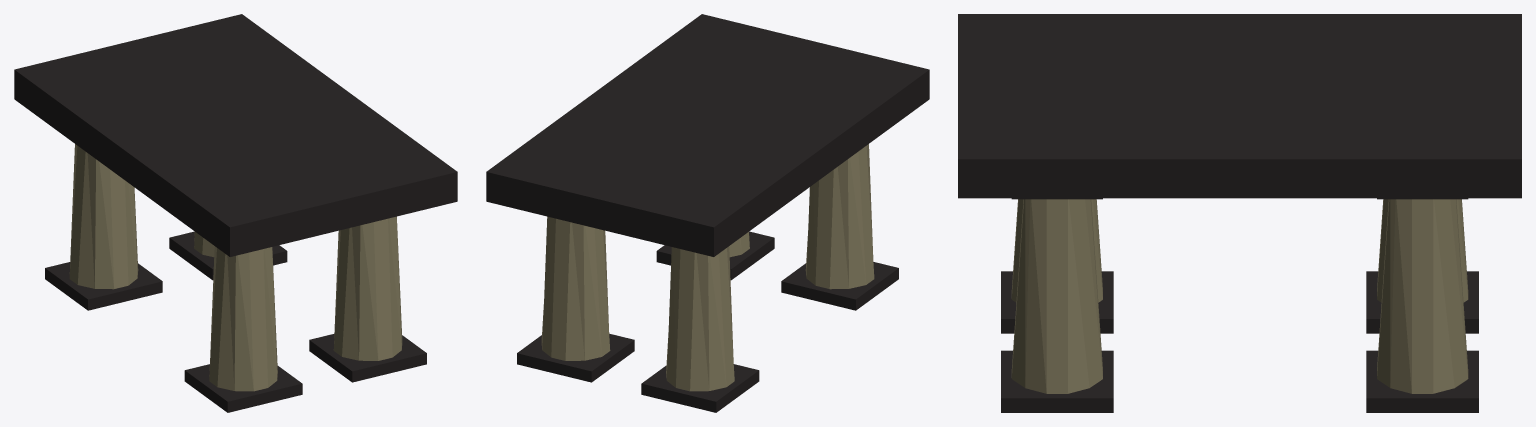
Rendered from obj_table_17_0.obj.
3 views of the same model, side by side, from view 1: azimuth 30°, elevation 25°; view 2: azimuth 150°, elevation 25°; view 3: azimuth 270°, elevation 25° (orthographic). The views are drawn at different scales.
Size of the model in its own units: 1 by 0.8438 by 1.64.
